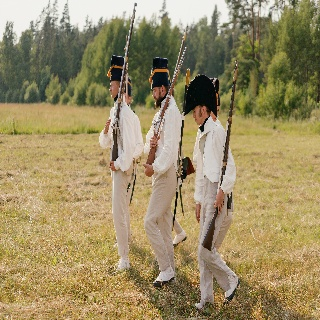rifle: (200, 60, 253, 251), (143, 25, 188, 166), (109, 1, 141, 163)
